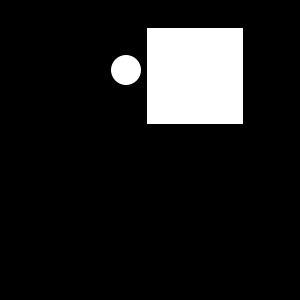circle: (147, 28, 243, 124)
rectangle: (111, 55, 141, 85)
